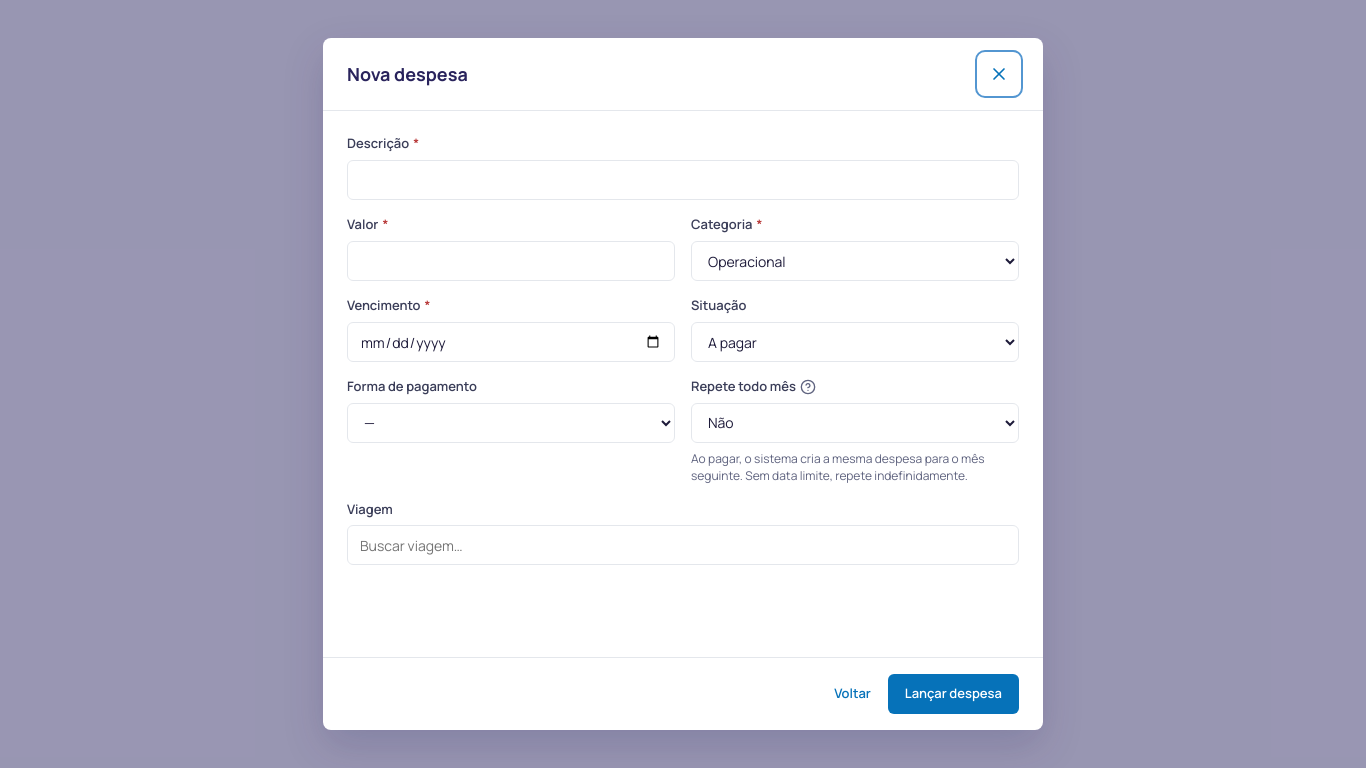
Test: 422 texto_longo em observacao vira erro inline no campo Observação, sem Alert de bloco
The width and height of the screenshot is (1366, 768).
Type "Aluguel" into the field labelled "Descrição *" at (683, 180), box [347,160,1019,200]
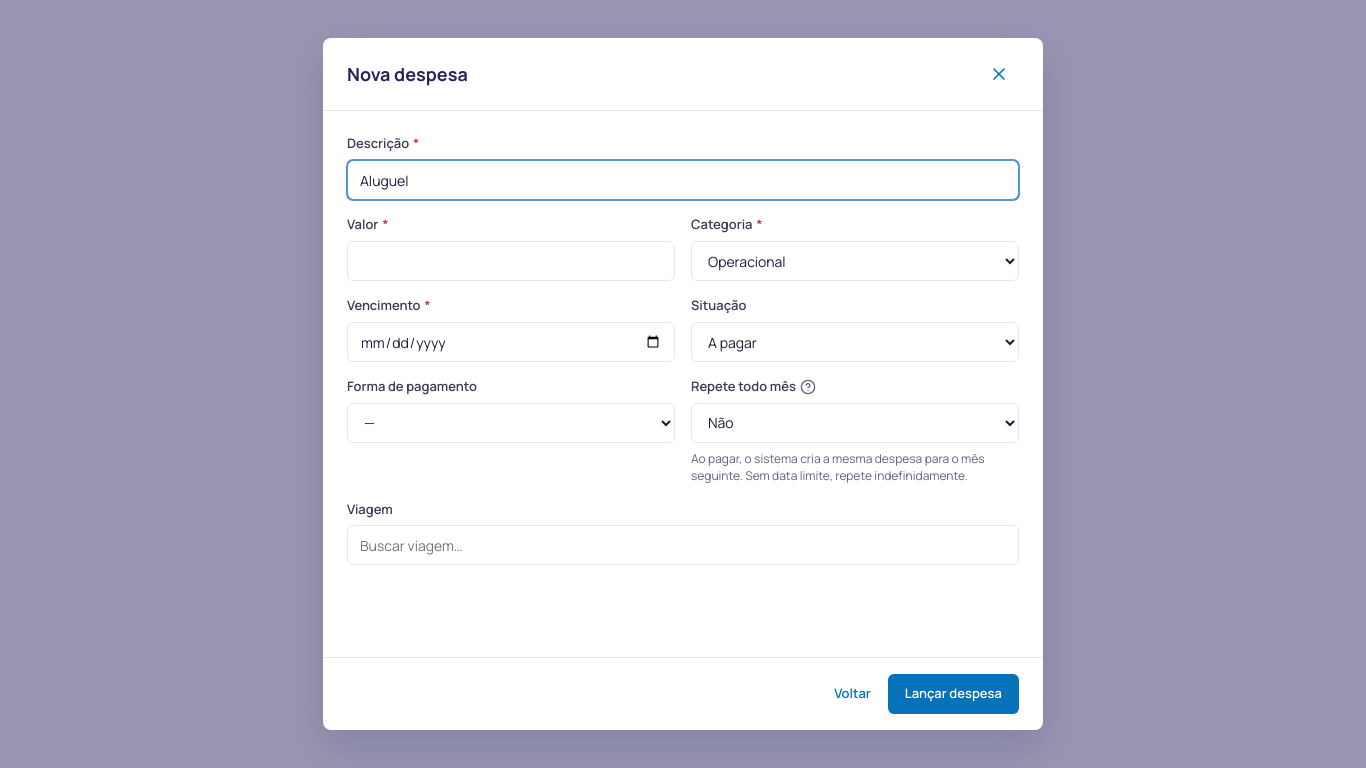
Type "100" into the field labelled "Valor *" at (511, 261), box [347,241,675,281]
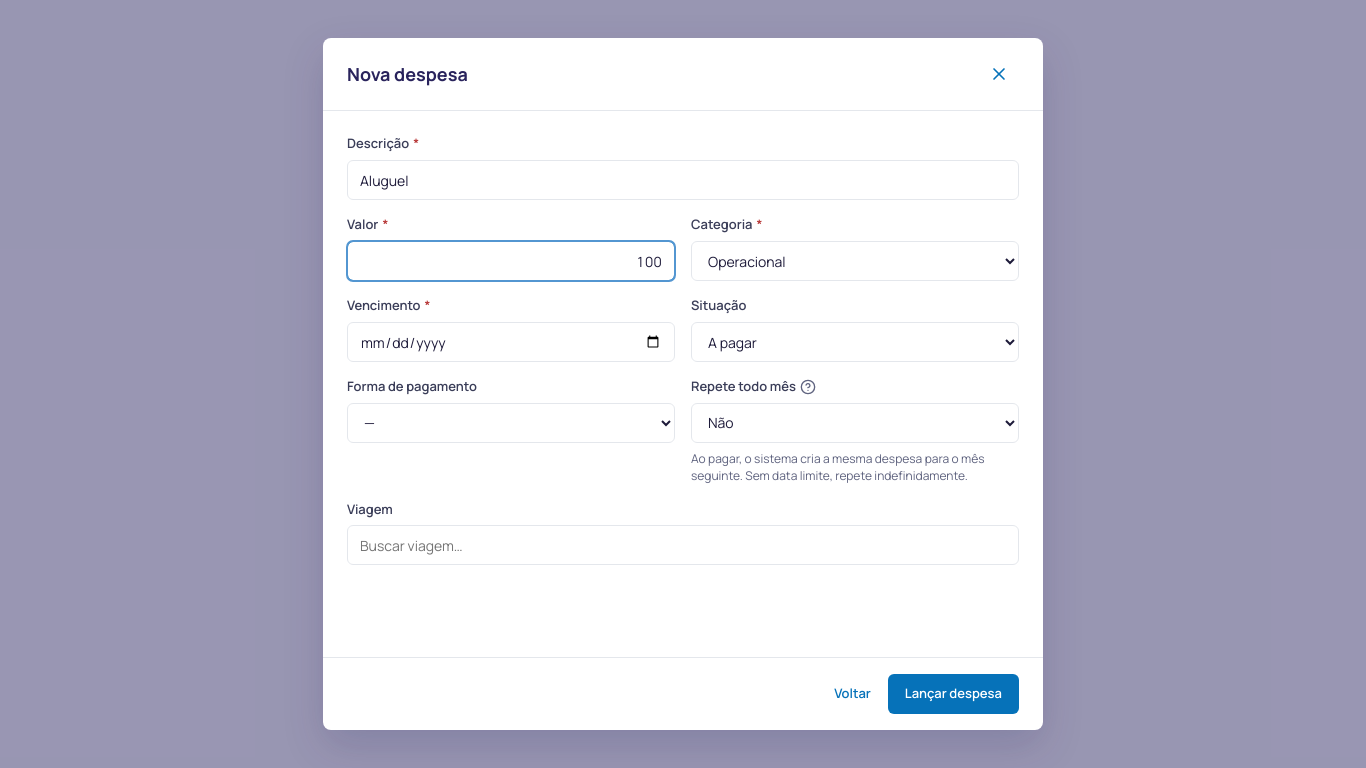
Type "2026-04-10" into the date field labelled "Vencimento *" at (511, 342), box [347,322,675,362]
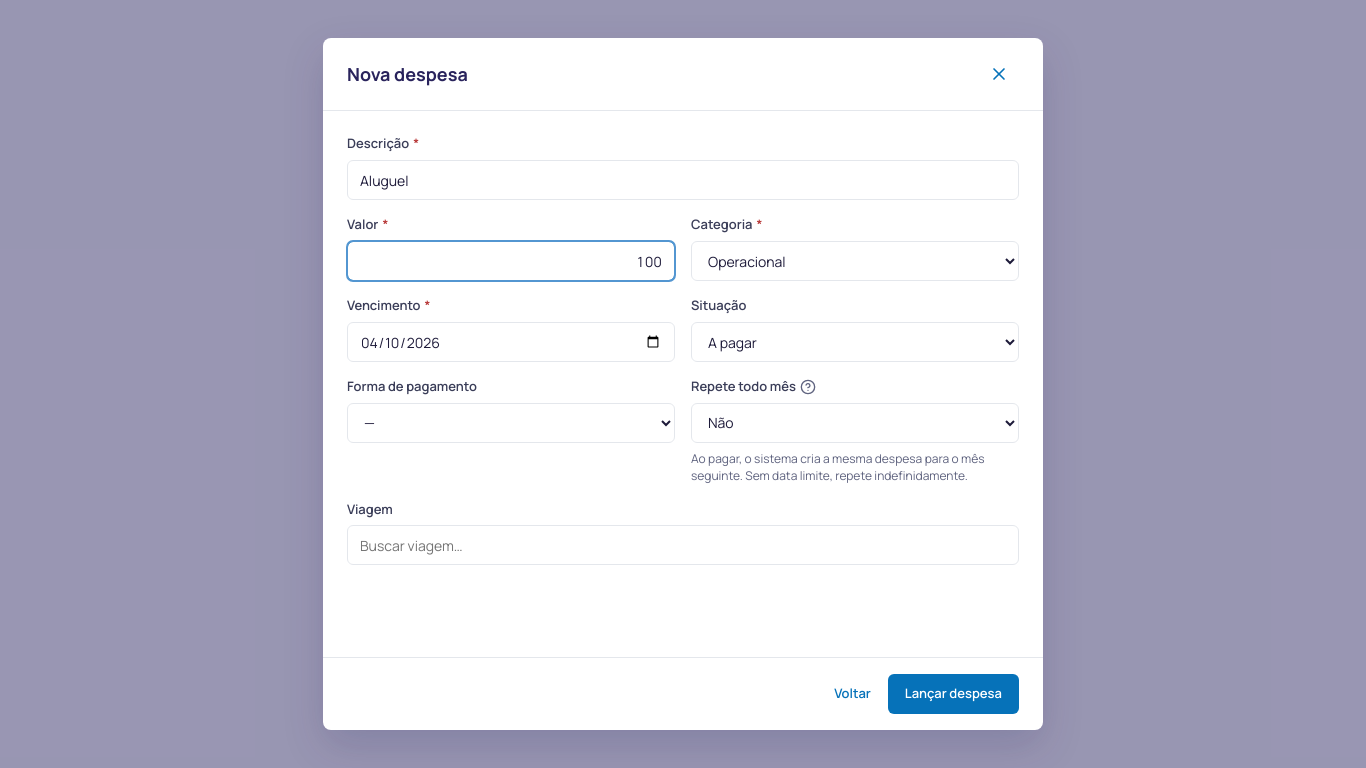
Click the button "Lançar despesa" at (953, 694), box [888,674,1019,714]
(page scrolled)
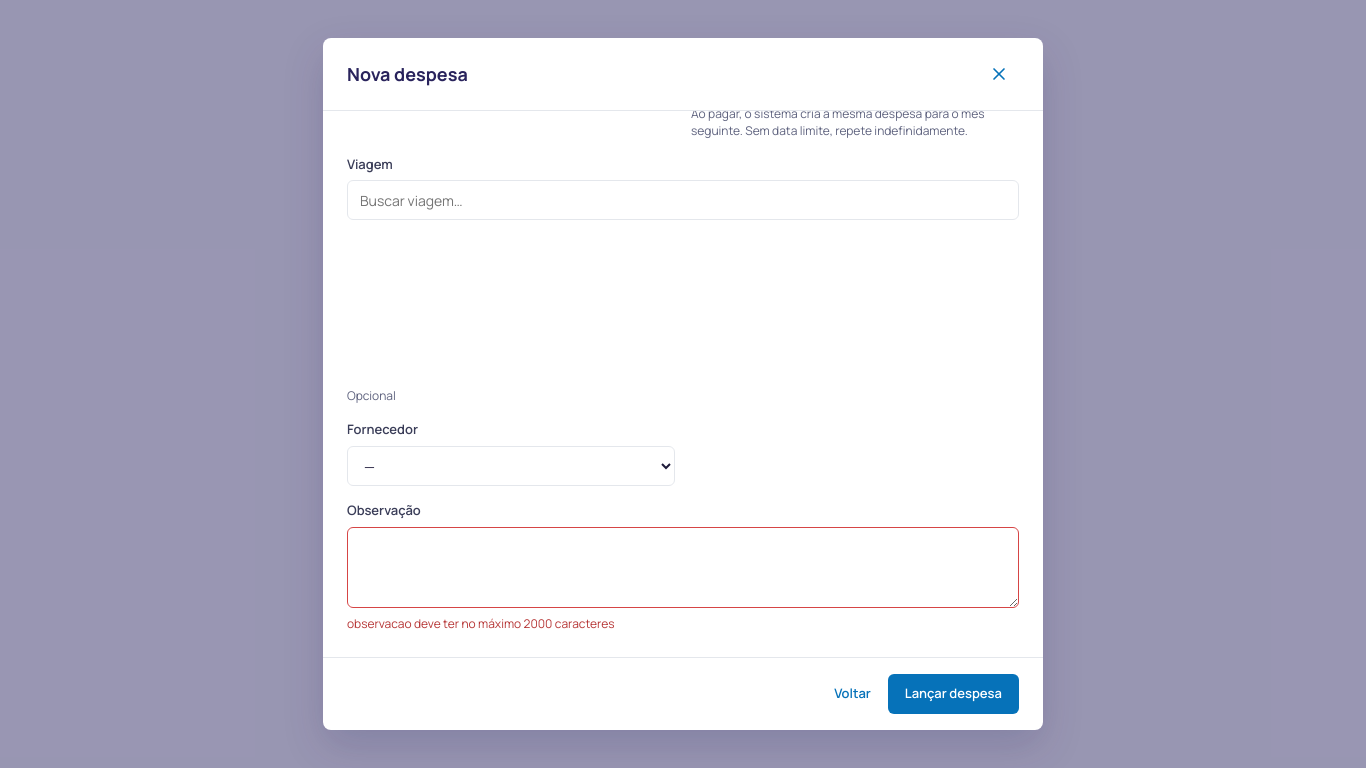
expect the message reads "observacao deve ter no máximo 2000 caracteres": met, box [347,615,615,632]
